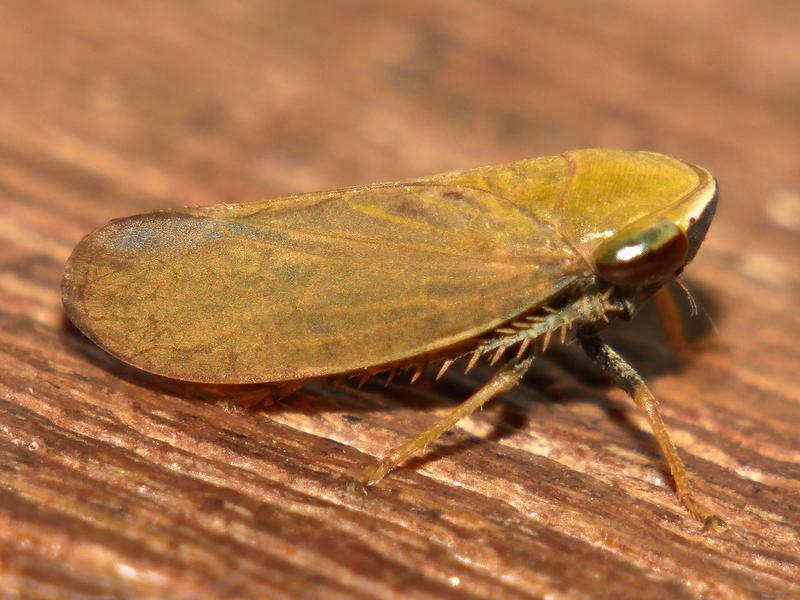Brown_plant_leafhopper: (56, 138, 751, 439)
